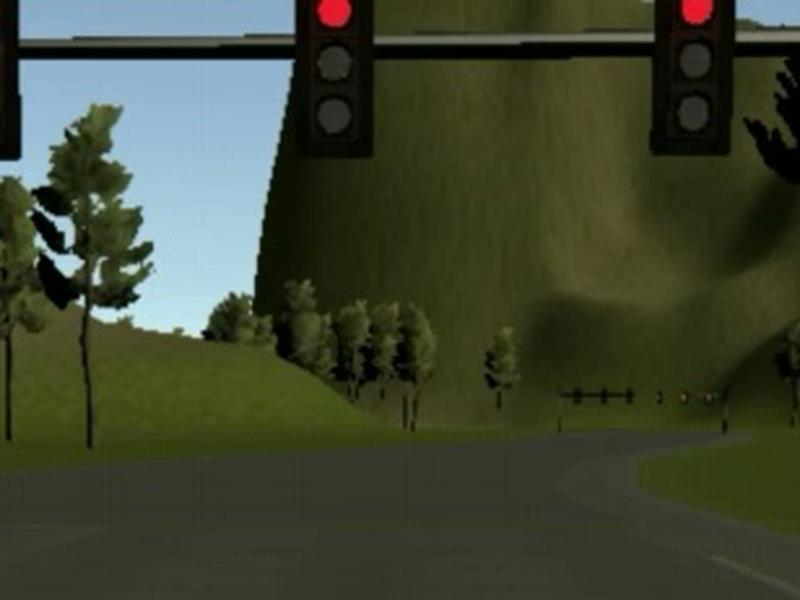Red: (650, 1, 735, 154), (295, 1, 374, 159)
